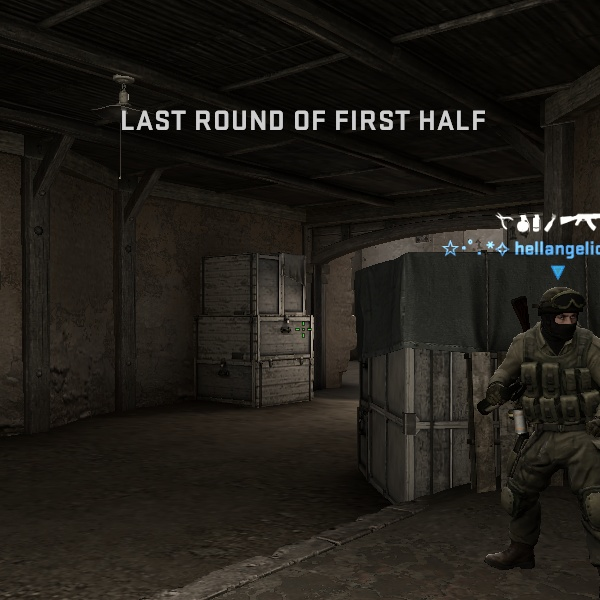ct_body: (473, 276, 600, 581)
ct_head: (523, 278, 594, 349)
